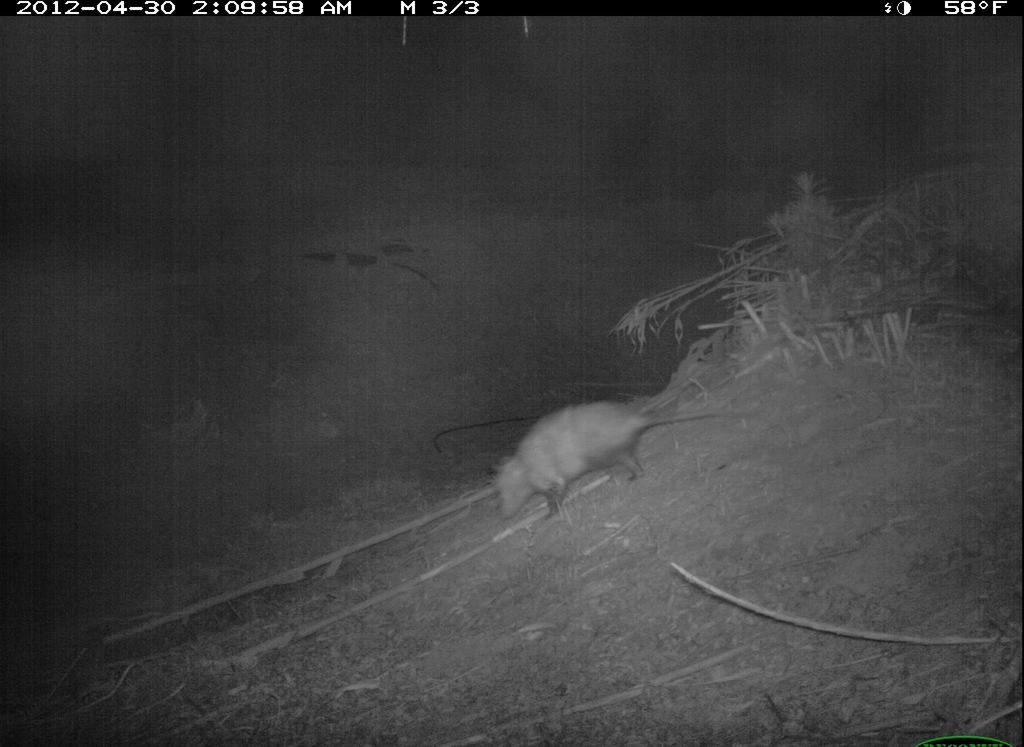opossum: (465, 373, 752, 528)
